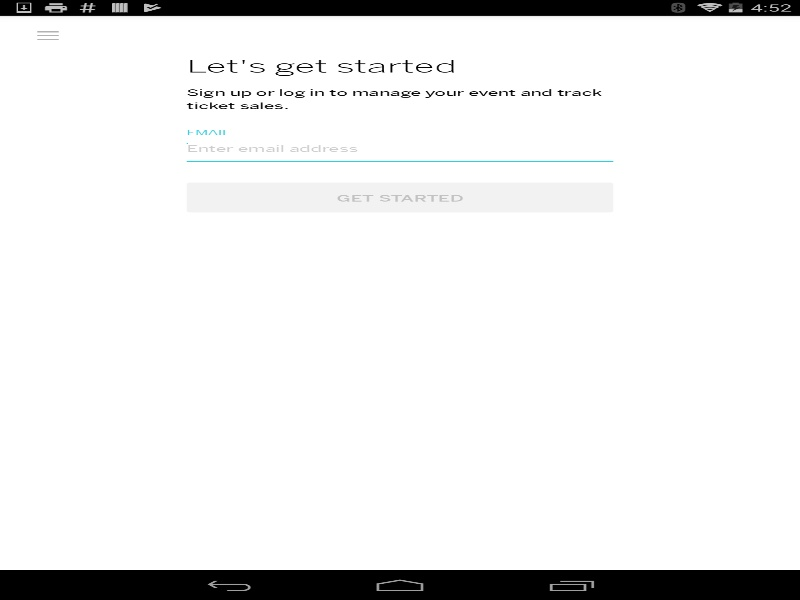Button: (186, 182, 613, 212), (10, 15, 85, 55)
Input: (186, 126, 613, 172)
